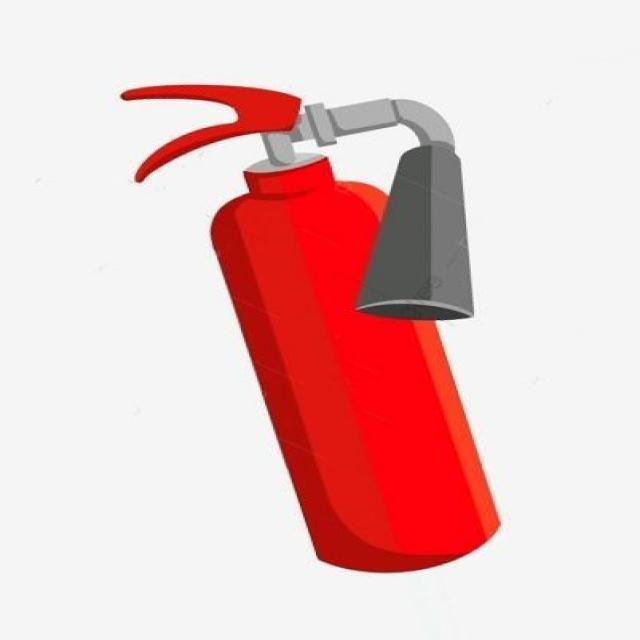fire_extinguisher: (107, 75, 509, 579)
